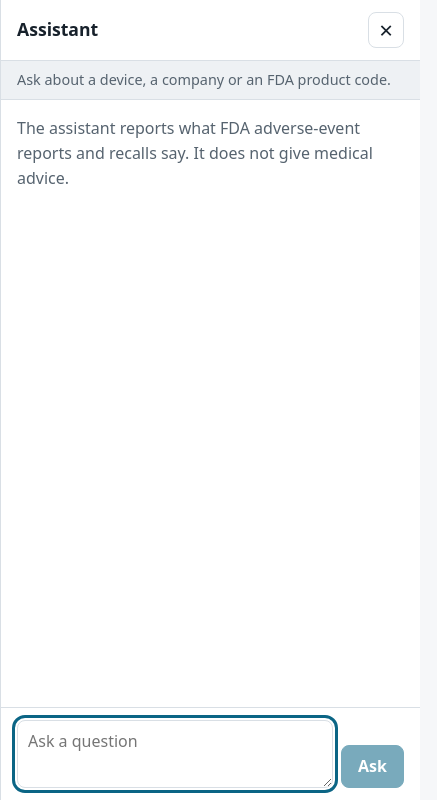
Scenario: statuses from /api/answer (handover §5) › refused: the refusal text only
This screenshot has width=437, height=800.
Type "Should I stop using it?" into the text box named "Your question" at (175, 754), box 17,720 -> 333,788
Then press Enter
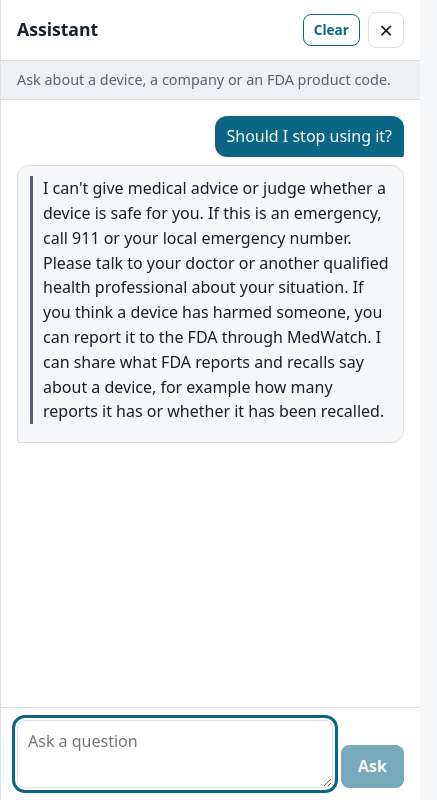
Expected: the element with class "reply" does not show "should not show", 17,165 -> 404,443
Expected: the element with class "reply" is shown, 17,165 -> 404,443
Expected: the number of elements with class "section" is 1, 30,176 -> 391,424
